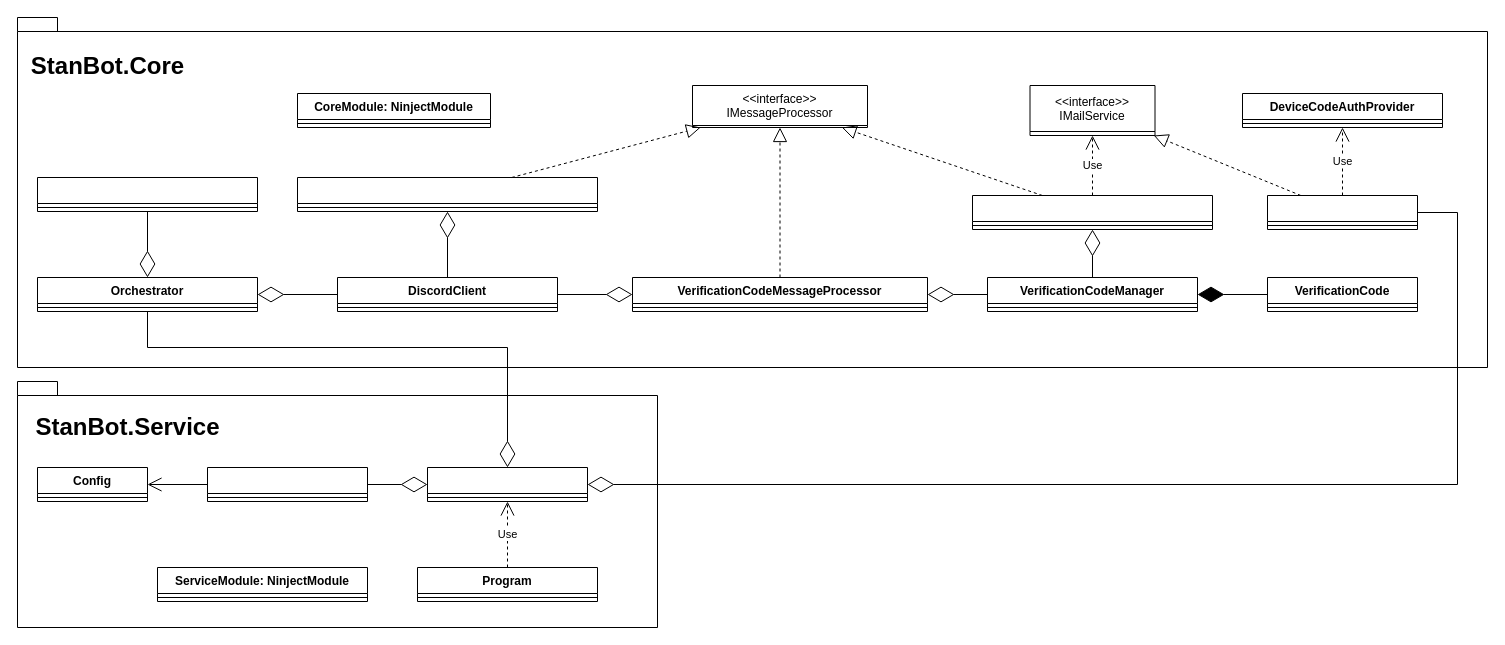
This 1505x645 diagram has some shape labels left out. The shapes that lost their labels are listed below. From the top down, each one's centre as x and y in pixels, then its label:
At [147,194]: "Communicator".
At [447,194]: "AnnouncementCommandMessageProcessor".
At [1092,212]: "AuthenticationMessageProcessor".
At [1342,212]: "MailService".
At [287,484]: "ConfigLoader".
At [507,484]: "ServiceManager".
